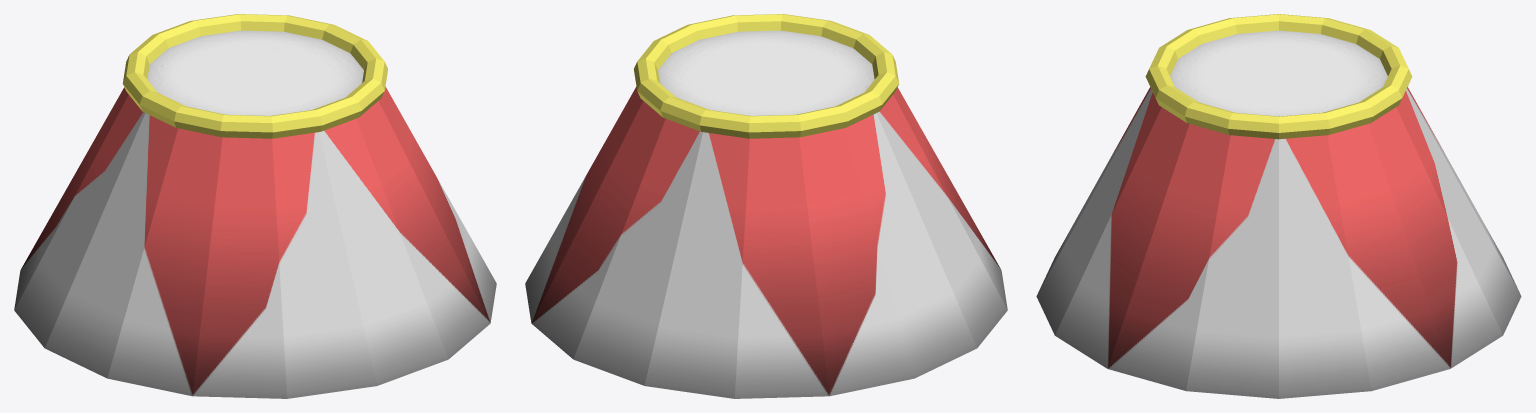
The model's file is Circus_Stand_1-3.fbx.
3 renders of one model, left to right at view 1: azimuth 30°, elevation 25°; view 2: azimuth 150°, elevation 25°; view 3: azimuth 270°, elevation 25°, orthographic.
Parts seen in each view (by area): view 1: Circus_Stand_1-3; view 2: Circus_Stand_1-3; view 3: Circus_Stand_1-3.
Boxes of the visible parts, bbox=[...] form: Circus_Stand_1-3: bbox=[14, 14, 496, 398]; Circus_Stand_1-3: bbox=[525, 14, 1007, 398]; Circus_Stand_1-3: bbox=[1036, 14, 1521, 398].
Size of the model in its own units: 200 by 105 by 200.
Materials: 2 (2 with a texture image).
